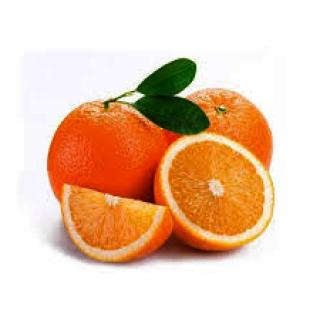orange: (41, 79, 173, 234), (162, 134, 280, 266), (38, 180, 174, 280)
